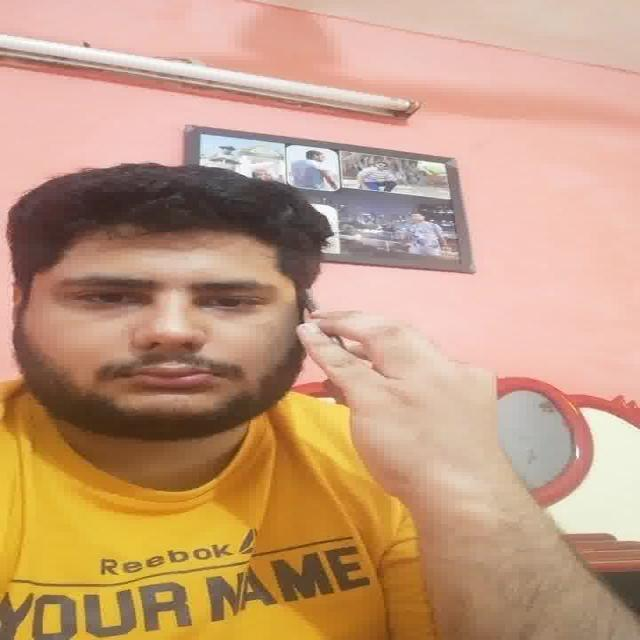Phone: (304, 290, 342, 350)
